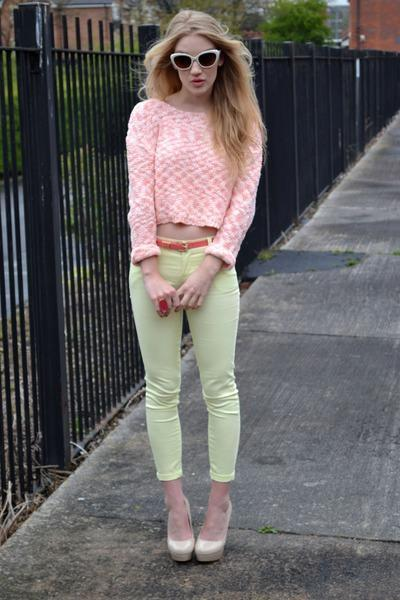jacket: (126, 98, 262, 265)
pants: (129, 245, 239, 481)
shoe: (167, 532, 224, 553)
